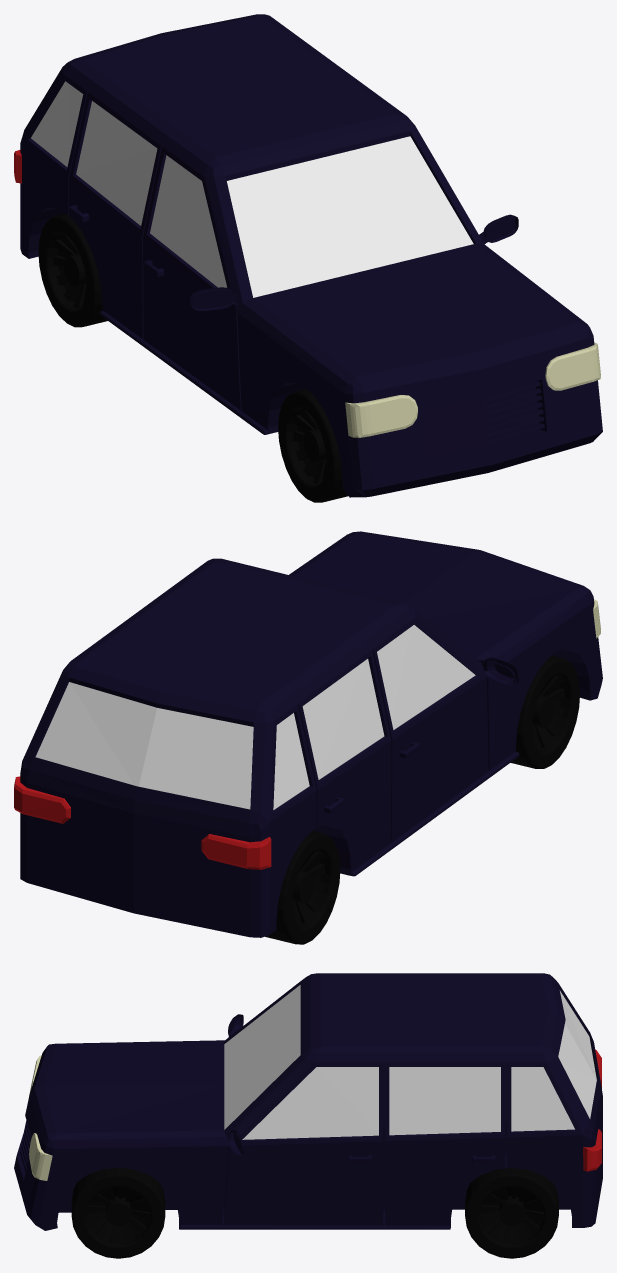
File: BlueCar.fbx
3 views of the same model, one above another, from view 1: azimuth 30°, elevation 25°; view 2: azimuth 150°, elevation 25°; view 3: azimuth 270°, elevation 25° (orthographic). The views are drawn at different scales.
Parts seen in each view (by area): view 1: Cube; view 2: Cube; view 3: Cube.
Boxes of the visible parts, box(x1,y1,x2,y2) form: Cube: box(14, 14, 602, 502); Cube: box(14, 531, 602, 944); Cube: box(14, 973, 602, 1258).
Size of the model in its own units: 183 by 130 by 347.
